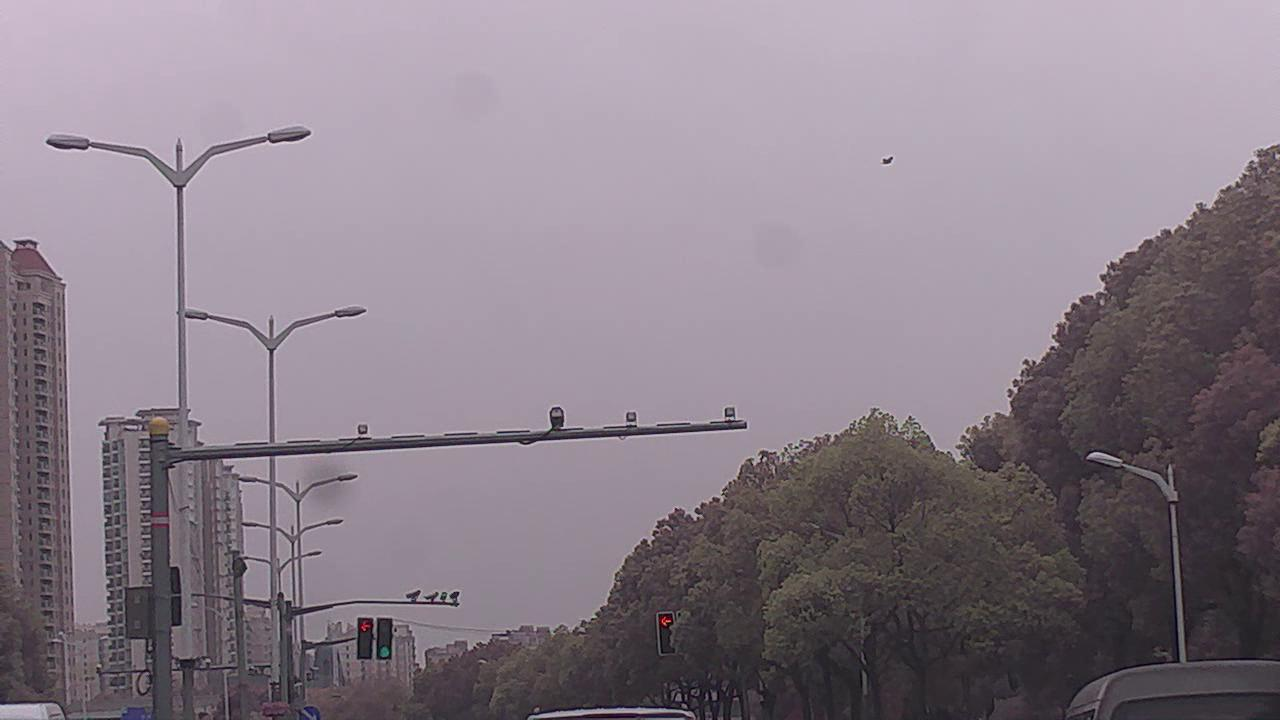traffic_light: (375, 614, 396, 659), (656, 610, 676, 655), (356, 617, 373, 660)
